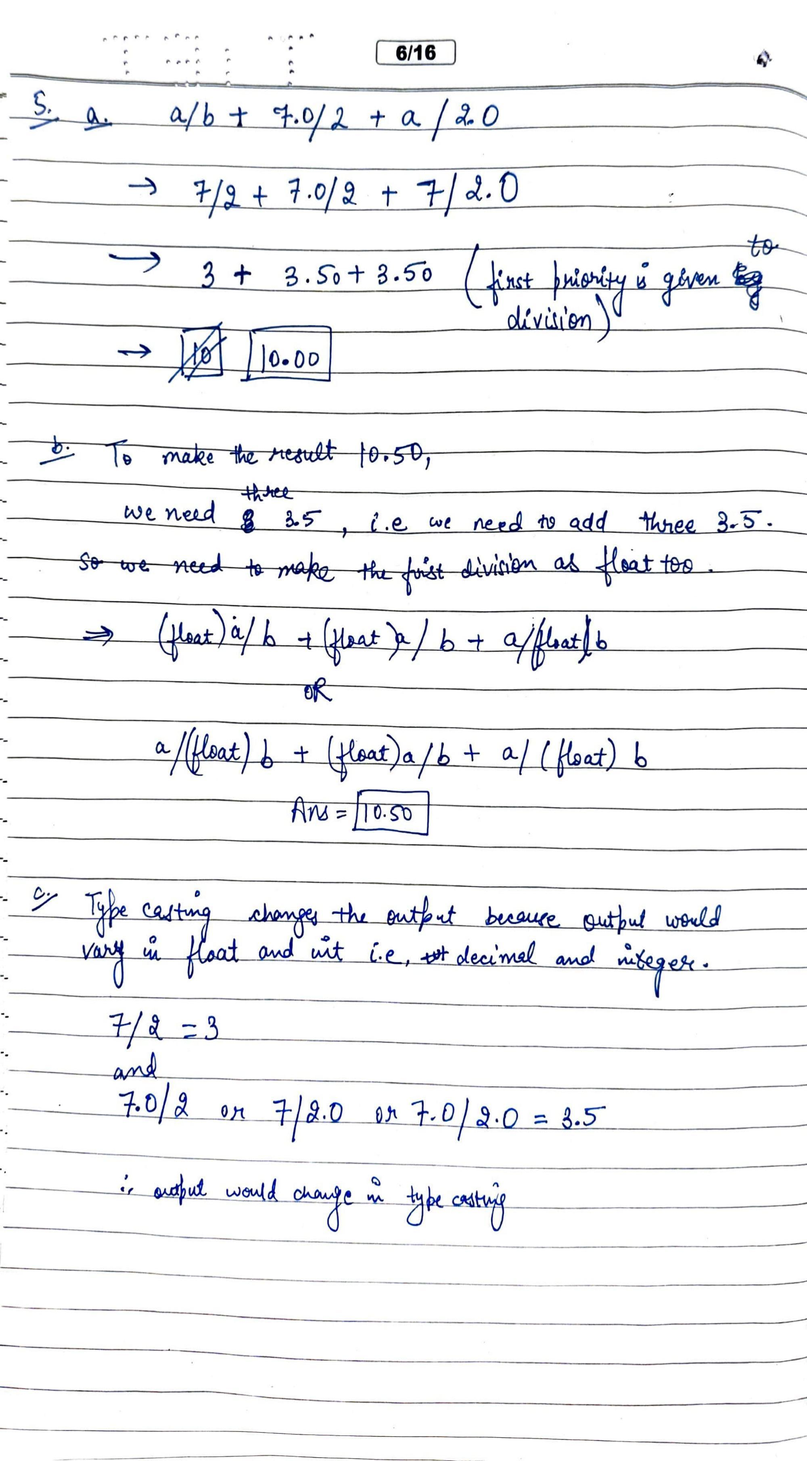cuttings: (166, 320, 231, 384), (732, 261, 765, 313), (243, 508, 255, 534)
